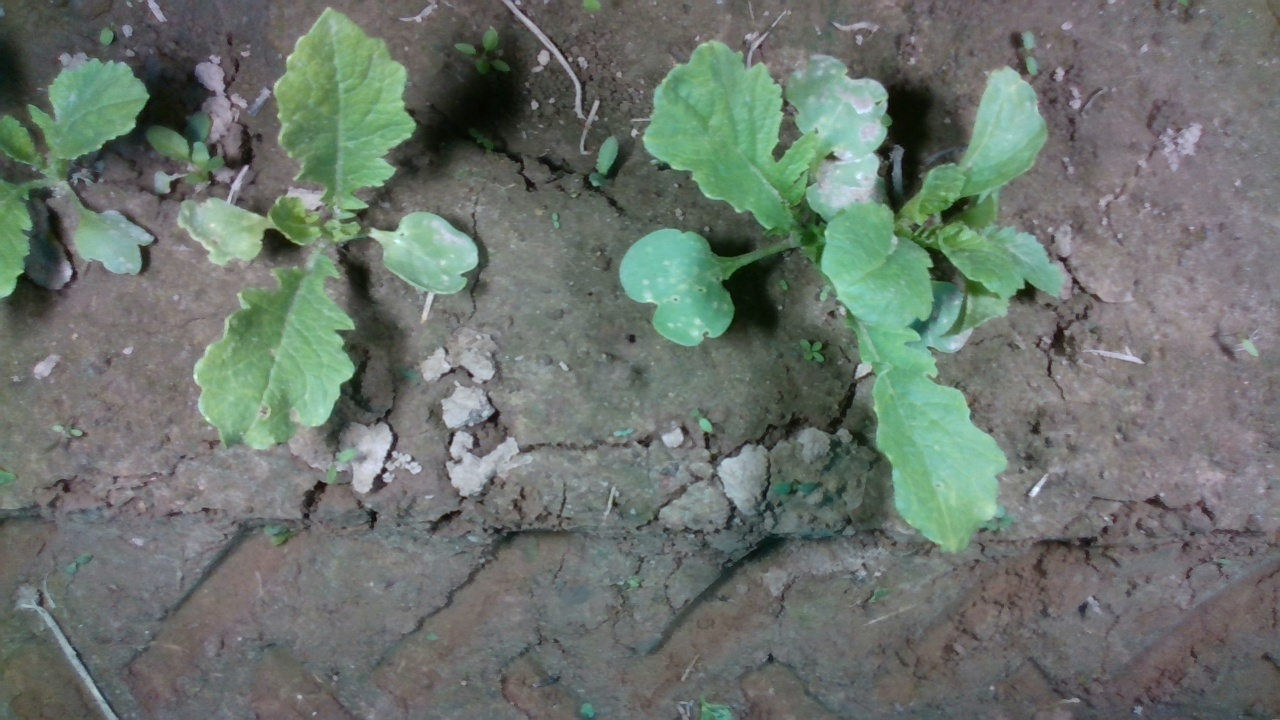weed: (1020, 27, 1041, 78), (798, 337, 825, 365), (819, 283, 831, 301), (551, 211, 560, 231)
